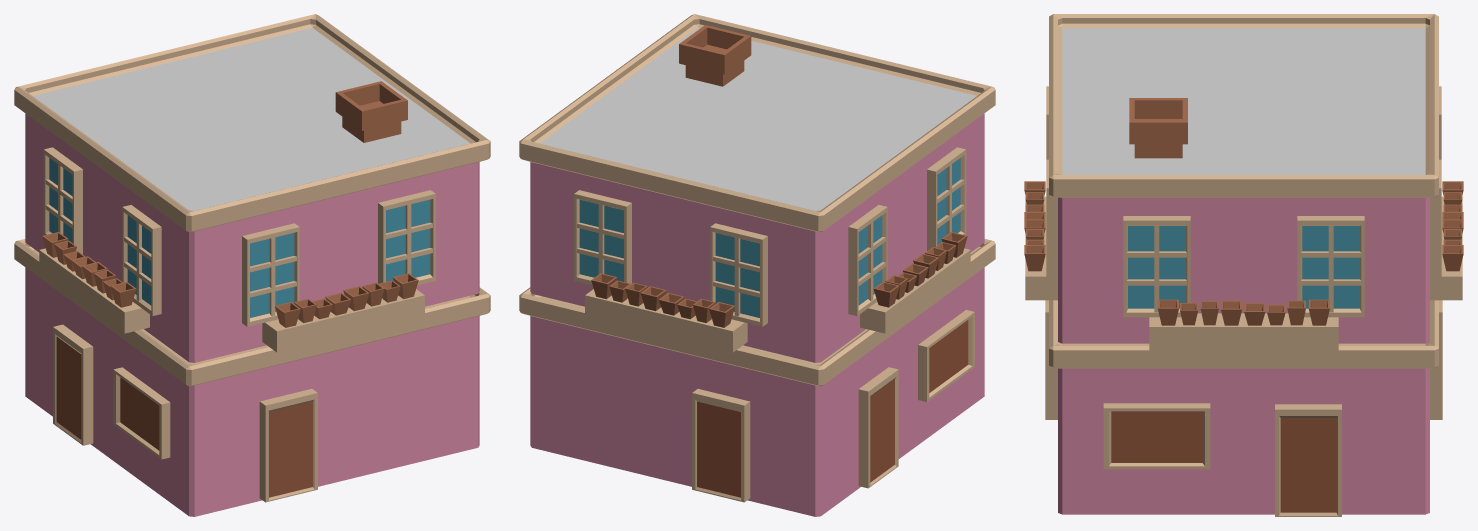
Rendered from casita1_uvs.fbx.
The picture shows the model from 3 angles, left to right: view 1: azimuth 30°, elevation 25°; view 2: azimuth 150°, elevation 25°; view 3: azimuth 270°, elevation 25°; orthographic projection. The views are drawn at different scales.
Visible parts, largest first — view 1: casa1_merged; view 2: casa1_merged; view 3: casa1_merged.
Part boxes in pixels (<box>): casa1_merged: <box>14,14,490,516</box>; casa1_merged: <box>519,14,995,516</box>; casa1_merged: <box>1024,14,1463,516</box>.
Size of the model in its own units: 839 by 779 by 839.
